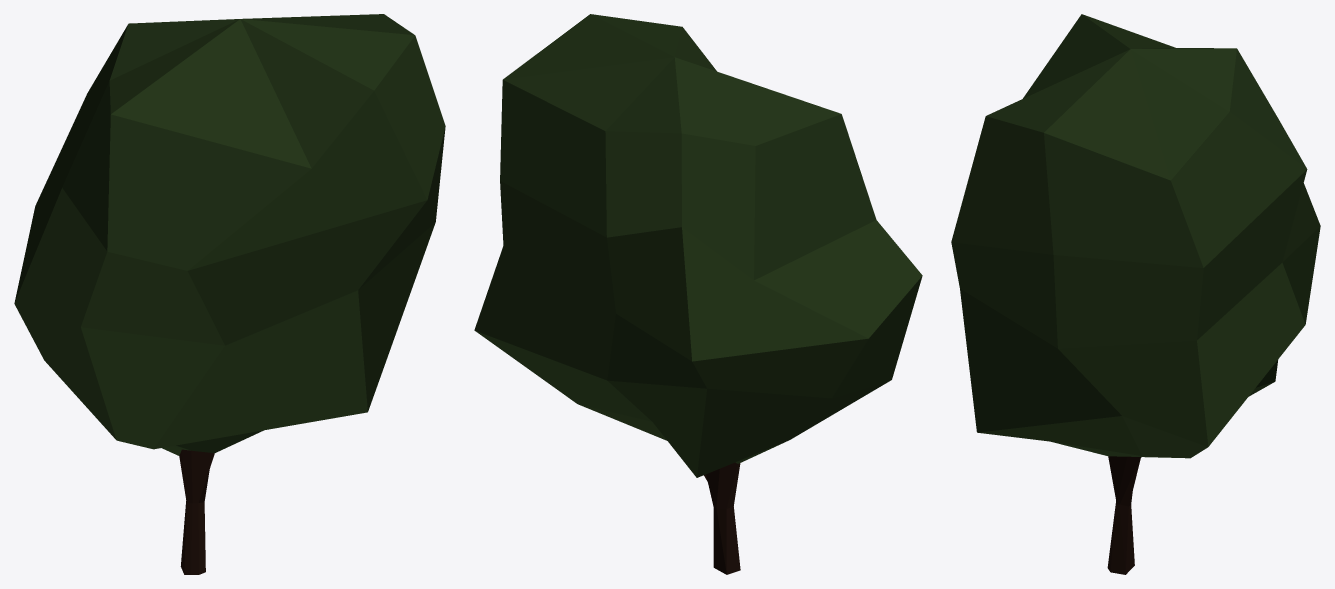
File: pohon.obj
3 renders of one model, left to right at view 1: azimuth 30°, elevation 25°; view 2: azimuth 150°, elevation 25°; view 3: azimuth 270°, elevation 25°, orthographic. The views are drawn at different scales.
Parts seen in each view (by area): view 1: Tree_PROXY_Cylinder.002; view 2: Tree_PROXY_Cylinder.002; view 3: Tree_PROXY_Cylinder.002.
Boxes of the visible parts, x1,y1,x2,y2 form: Tree_PROXY_Cylinder.002: [14, 14, 445, 574]; Tree_PROXY_Cylinder.002: [474, 14, 922, 574]; Tree_PROXY_Cylinder.002: [951, 14, 1320, 574].
Size of the model in its own units: 7.31 by 9.57 by 5.87.
